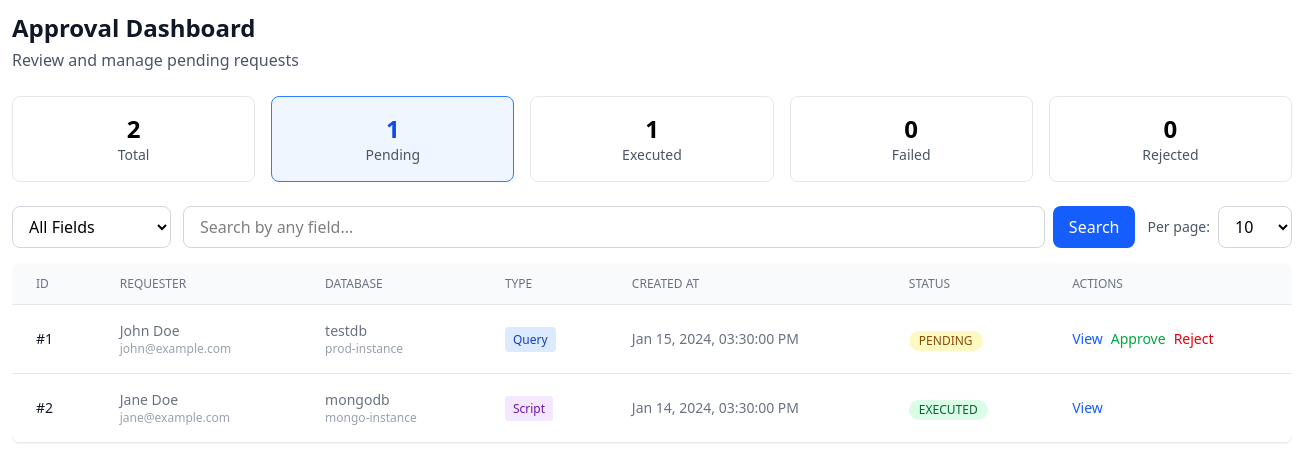
Test case: ApprovalDashboard - Fixed Tests › Search functionality with empty results › should show "No requests found" when search returns empty results
Expected: the text "#1" is shown, x1=12 y1=304 x2=96 y2=374
Perform search
Type "nonexistent" into the field with placeholder "Search by any field..." at (614, 227), box x1=183 y1=206 x2=1045 y2=248
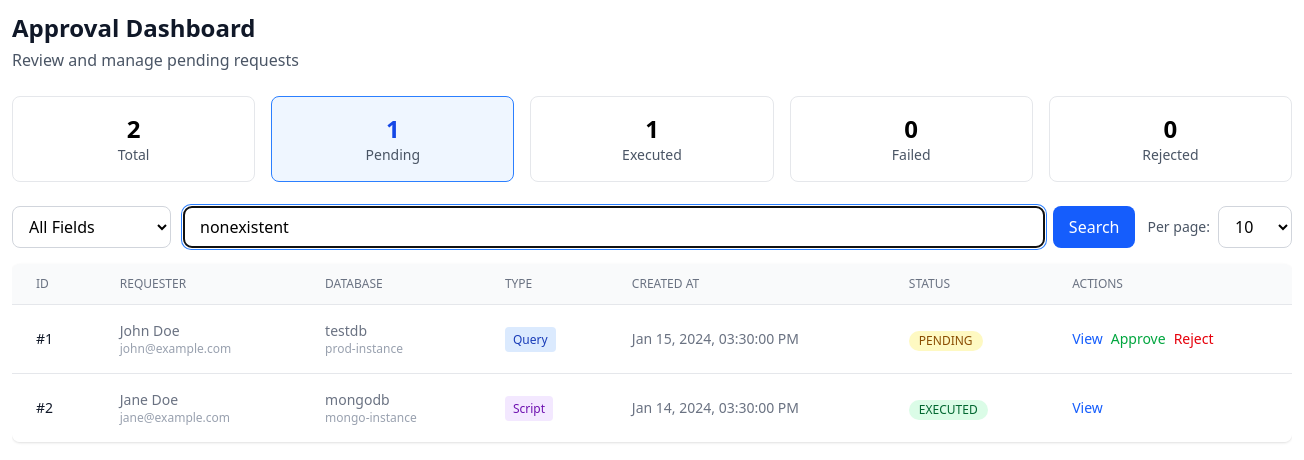
Click the button "Search" at (1094, 227), box x1=1053 y1=206 x2=1135 y2=248
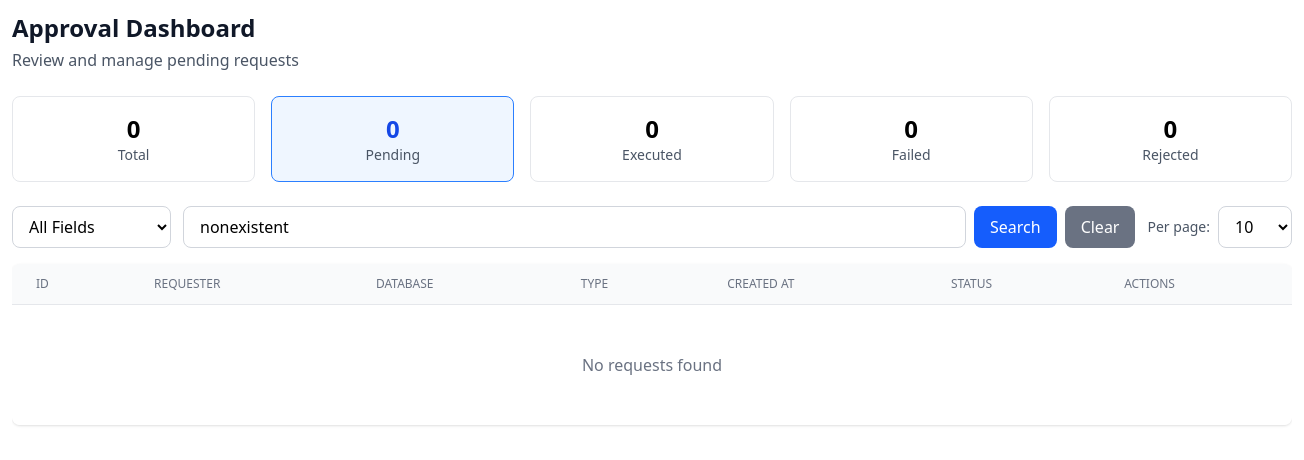
Expected: the text "No requests found" is shown, x1=12 y1=304 x2=1292 y2=425
